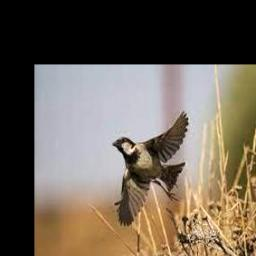Sparrow: (112, 110, 189, 226)
